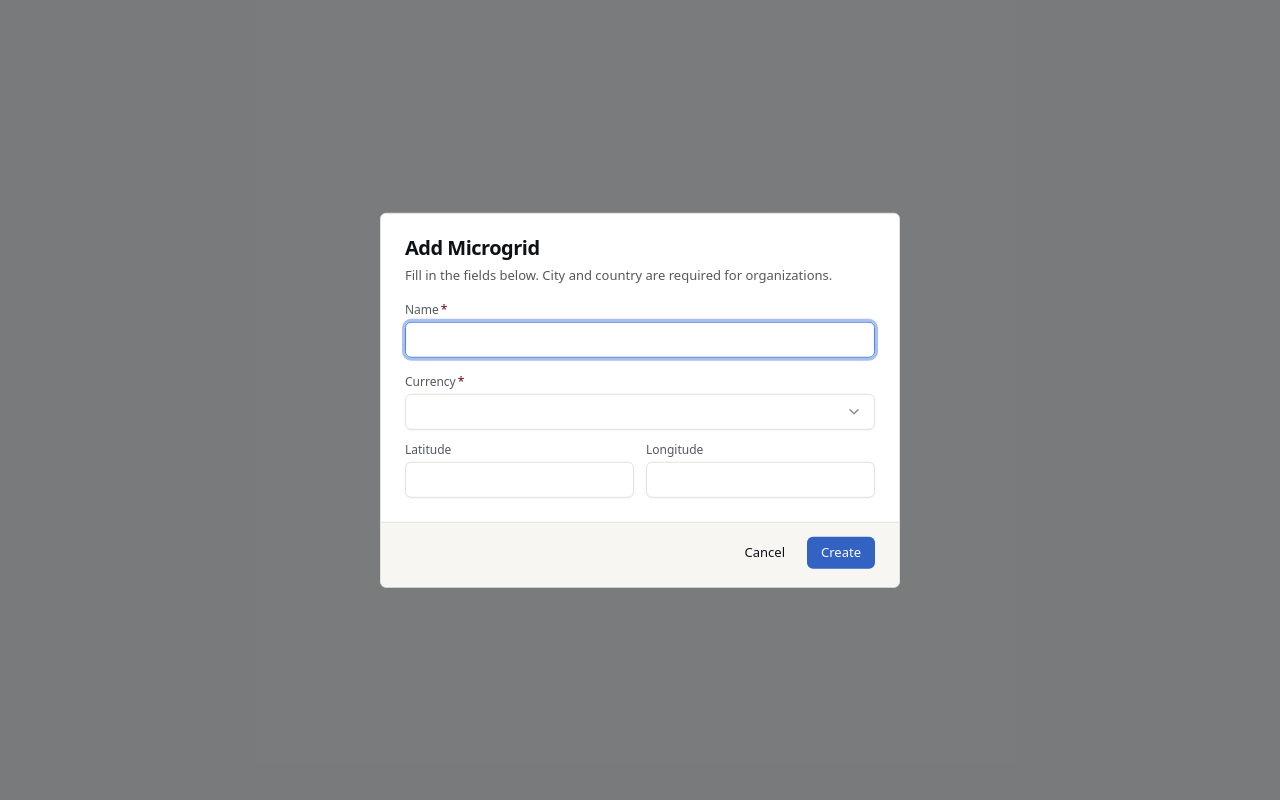
Test: EntityForm › microgrid: create › 403 surfaces top-level permission banner
Type "Blocked" into the field labelled "Name*" at [640, 339], box [405,321,875,357]
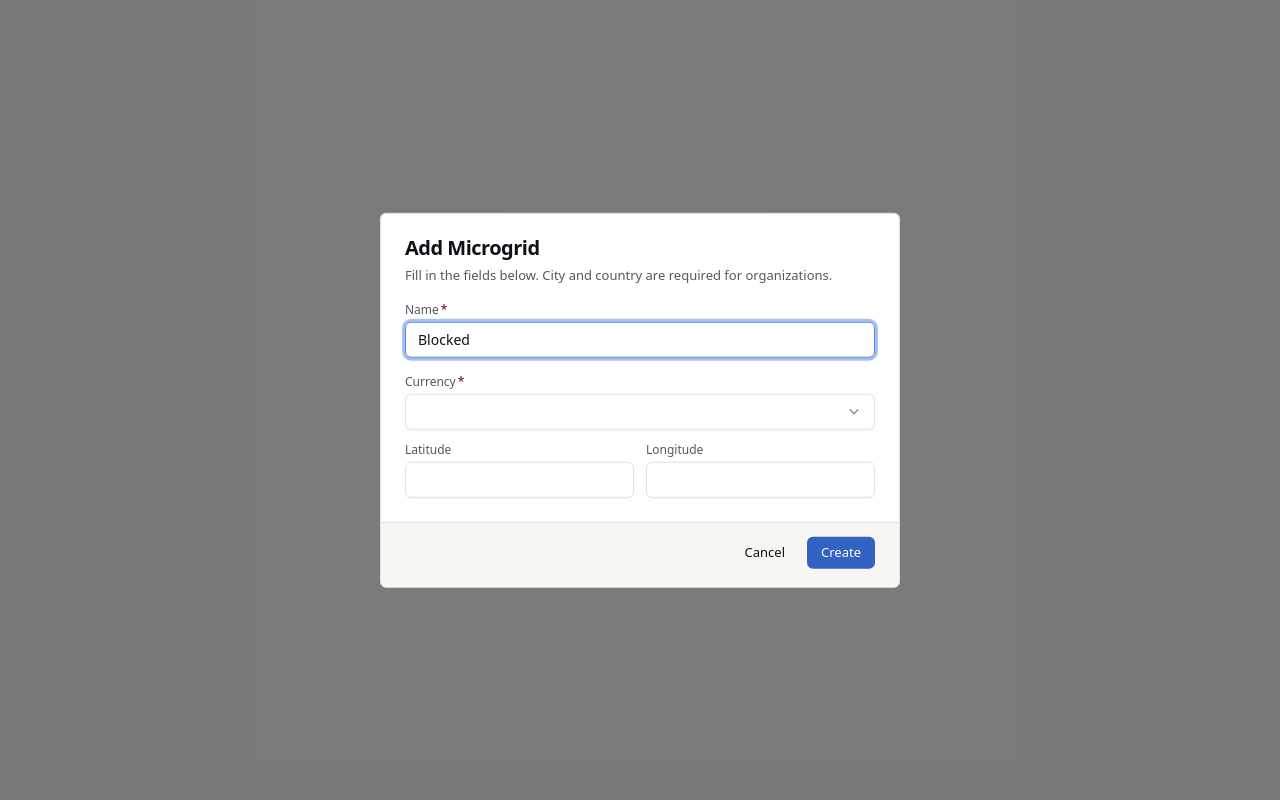
Click the button "Create" at [841, 552], box [807,536,875,568]
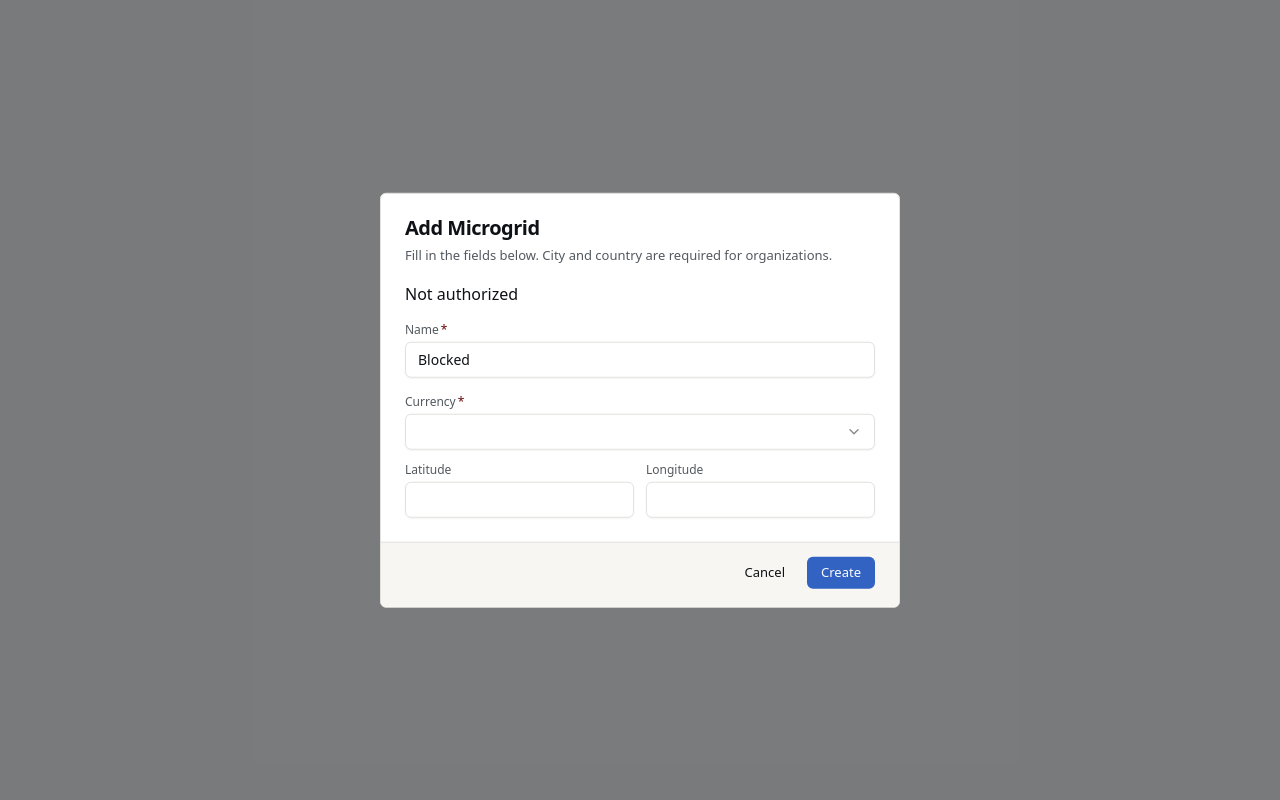
Now the text "Not authorized" is shown, box [405,282,518,304]
